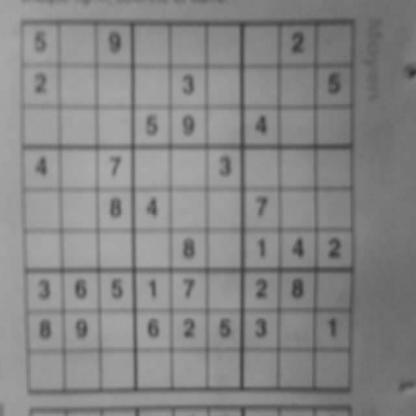sudoku: (15, 11, 361, 400)
